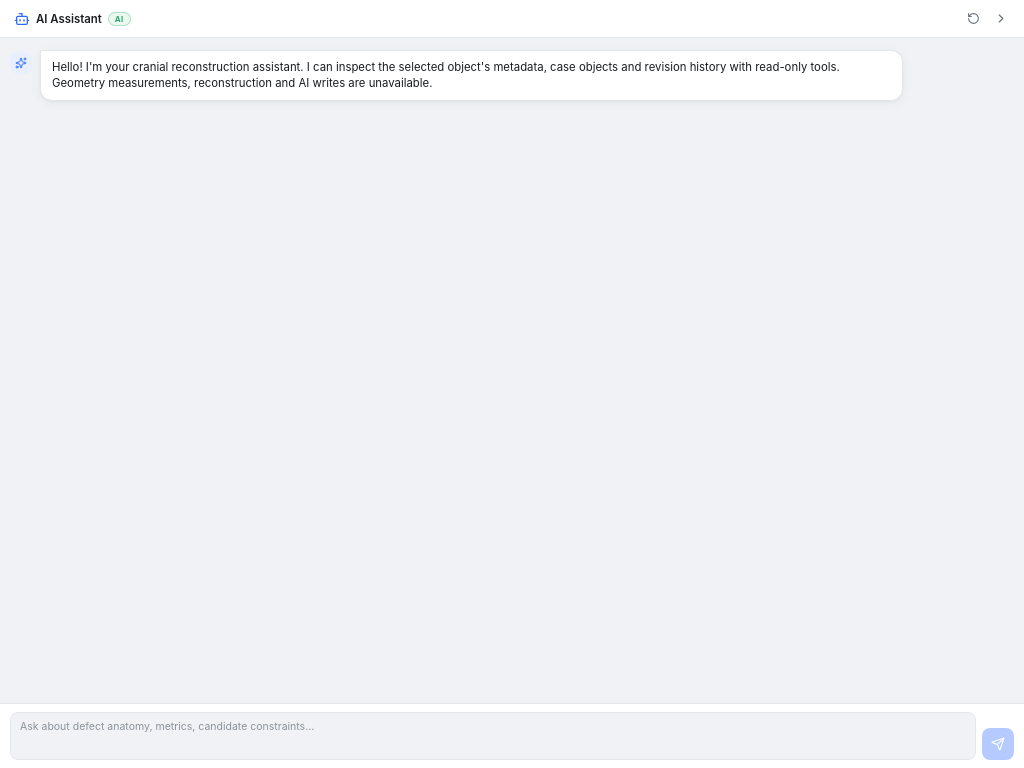
Test: staged proposal review card › requires an explicit Accept, echoes the proposal identity, then reloads the workspace
The width and height of the screenshot is (1024, 768).
Type "Shift it 5 mm" into the text box named "Message for AI assistant".
click(493, 736); type("Shift it 5 mm")  # box [10,712,976,760]
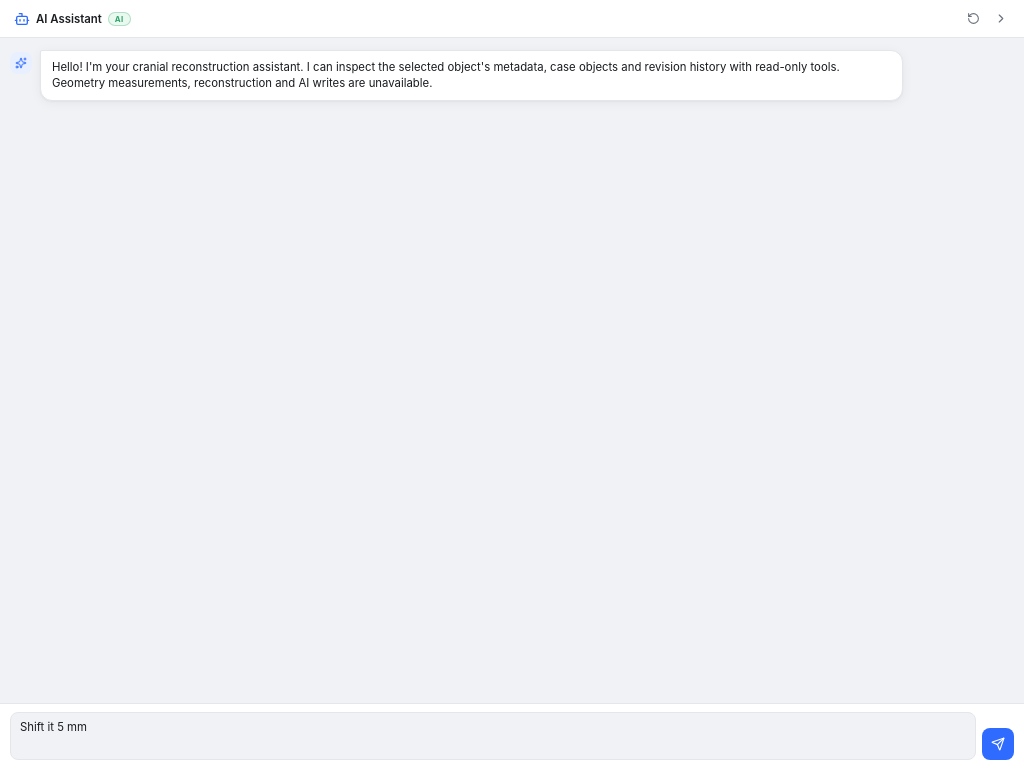
Click the button named "Send message to AI assistant".
click(998, 744)  # box [982,728,1014,760]
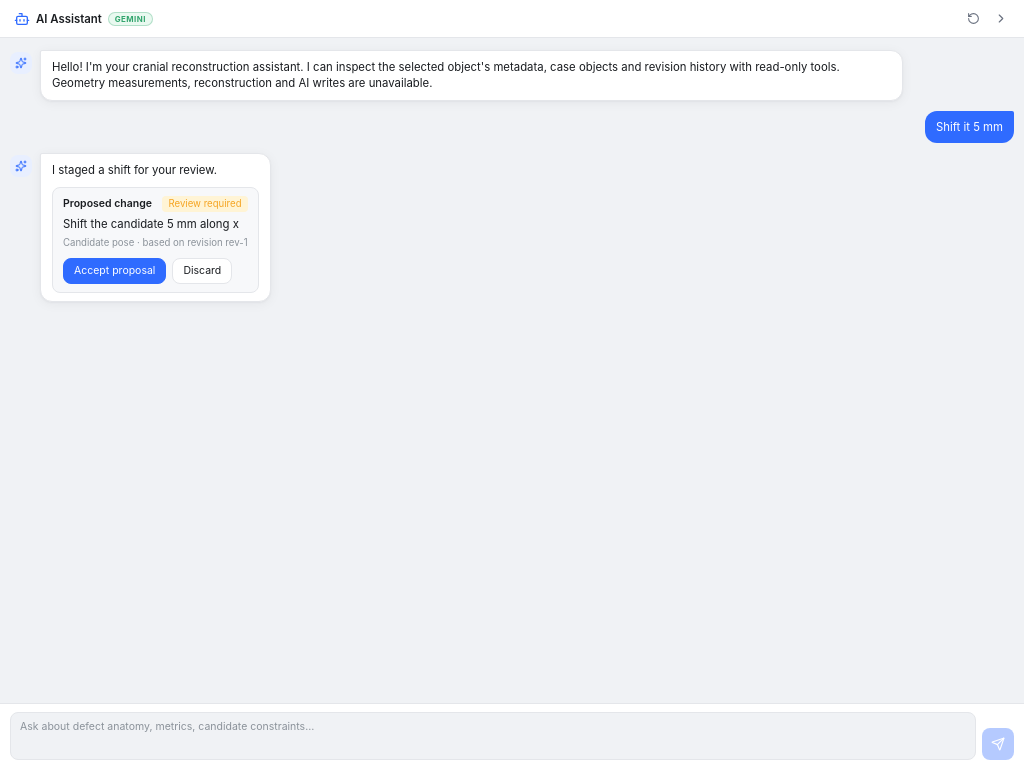
Expected: the element "Proposed change" is shown, [52,187,259,292]
Expected: the text "Shift the candidate 5 mm along x" is shown, [63,216,248,232]
Expected: the text "Review required" is shown, [162,196,248,212]
Click the button "Accept proposal".
click(115, 271)  # box [63,258,166,284]
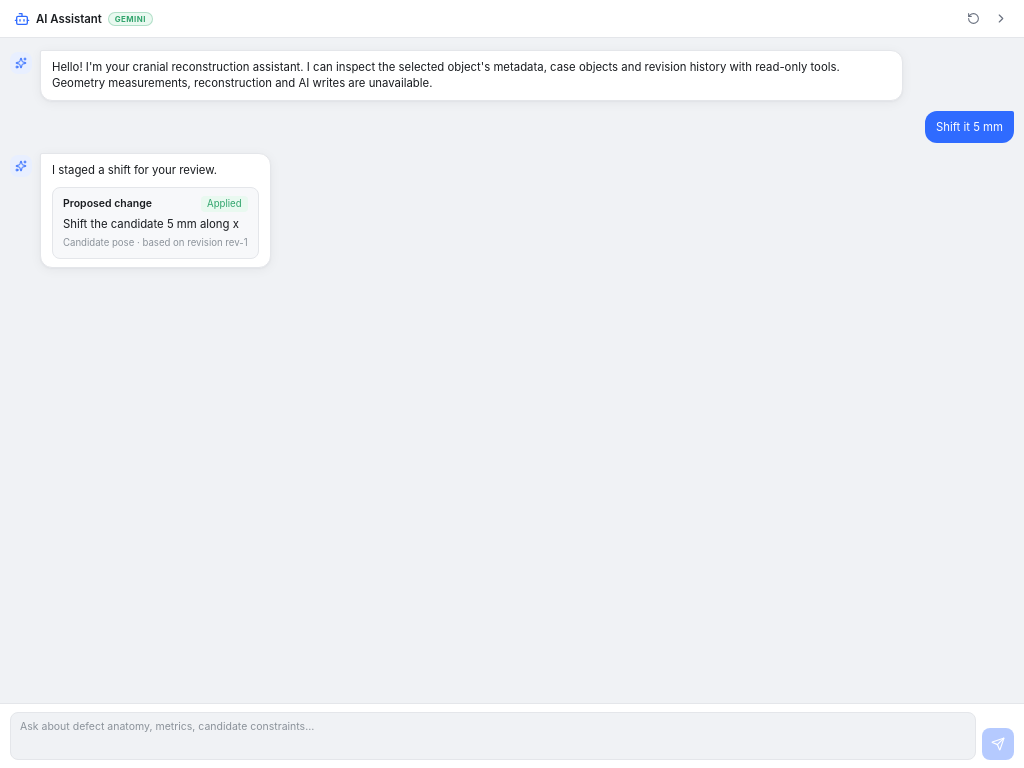
Expected: the text "Applied" is shown, [201,196,248,212]
Expected: the button "Accept proposal" is gone
